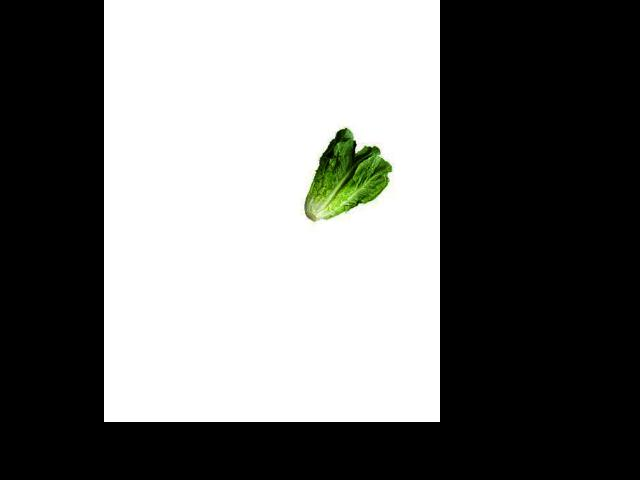lettuce: (304, 122, 389, 234)
